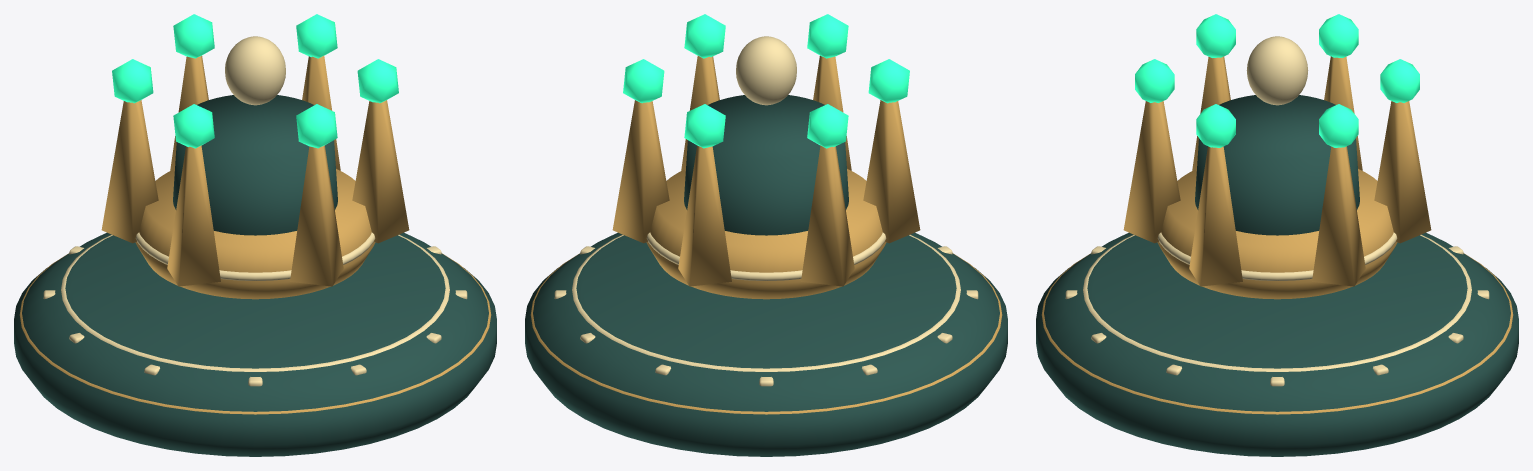
File: coronation-seal.glb
3 renders of one model, left to right at view 1: azimuth 30°, elevation 25°; view 2: azimuth 150°, elevation 25°; view 3: azimuth 270°, elevation 25°, orthographic.
Parts seen in each view (by area): view 1: Seal layered jade base, Crown dark internal velvet, Crown collar, Crown prong 2, Crown prong 5, Crown prong 3, Crown prong 4, Crown ivory terminal, Seal ivory rim, Seal engraved rim, Crown emerald 3, Crown emerald 0 (+7 smaller); view 2: Seal layered jade base, Crown dark internal velvet, Crown collar, Crown prong 1, Crown prong 4, Crown prong 0, Crown prong 5, Crown ivory terminal, Seal ivory rim, Seal engraved rim, Crown emerald 0, Crown emerald 3 (+7 smaller); view 3: Seal layered jade base, Crown dark internal velvet, Crown collar, Crown prong 0, Crown prong 3, Crown prong 1, Crown prong 2, Crown ivory terminal, Seal ivory rim, Seal engraved rim, Crown emerald 4, Crown emerald 5 (+7 smaller).
Boxes of the visible parts, left/top/right/bottom form: Seal layered jade base: left=14, top=232, right=496, bottom=456; Crown dark internal velvet: left=173, top=95, right=337, bottom=235; Crown collar: left=135, top=169, right=375, bottom=299; Crown prong 2: left=352, top=100, right=409, bottom=243; Crown prong 5: left=101, top=100, right=158, bottom=243; Crown prong 3: left=290, top=145, right=343, bottom=286; Crown prong 4: left=167, top=145, right=220, bottom=286; Crown ivory terminal: left=225, top=36, right=285, bottom=105; Seal ivory rim: left=61, top=234, right=449, bottom=371; Seal engraved rim: left=19, top=253, right=491, bottom=414; Crown emerald 3: left=296, top=104, right=337, bottom=148; Crown emerald 0: left=173, top=14, right=214, bottom=58; Seal layered jade base: left=525, top=232, right=1007, bottom=456; Crown dark internal velvet: left=684, top=95, right=848, bottom=235; Crown collar: left=646, top=169, right=886, bottom=299; Crown prong 1: left=612, top=100, right=669, bottom=243; Crown prong 4: left=863, top=100, right=920, bottom=243; Crown prong 0: left=678, top=145, right=731, bottom=286; Crown prong 5: left=801, top=145, right=854, bottom=286; Crown ivory terminal: left=736, top=36, right=796, bottom=105; Seal ivory rim: left=572, top=234, right=960, bottom=371; Seal engraved rim: left=530, top=253, right=1002, bottom=414; Crown emerald 0: left=684, top=104, right=725, bottom=148; Crown emerald 3: left=807, top=14, right=848, bottom=58; Seal layered jade base: left=1036, top=232, right=1518, bottom=456; Crown dark internal velvet: left=1195, top=95, right=1359, bottom=235; Crown collar: left=1157, top=169, right=1397, bottom=299; Crown prong 0: left=1374, top=101, right=1431, bottom=243; Crown prong 3: left=1123, top=101, right=1180, bottom=243; Crown prong 1: left=1312, top=146, right=1365, bottom=286; Crown prong 2: left=1189, top=146, right=1242, bottom=286; Crown ivory terminal: left=1246, top=36, right=1308, bottom=105; Seal ivory rim: left=1083, top=234, right=1471, bottom=371; Seal engraved rim: left=1041, top=253, right=1513, bottom=414; Crown emerald 4: left=1196, top=14, right=1235, bottom=57; Crown emerald 5: left=1319, top=14, right=1358, bottom=57.
Bounding box in the file's own units: 1.71 × 1.26 × 1.71.
